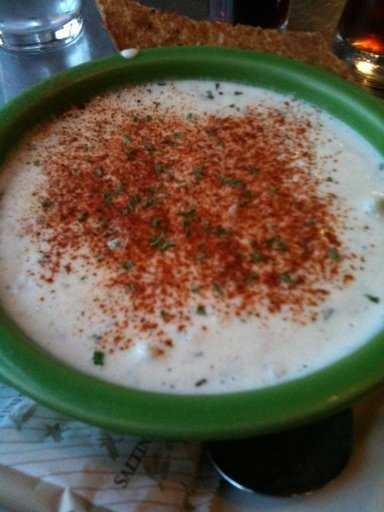soup: (20, 67, 357, 384)
